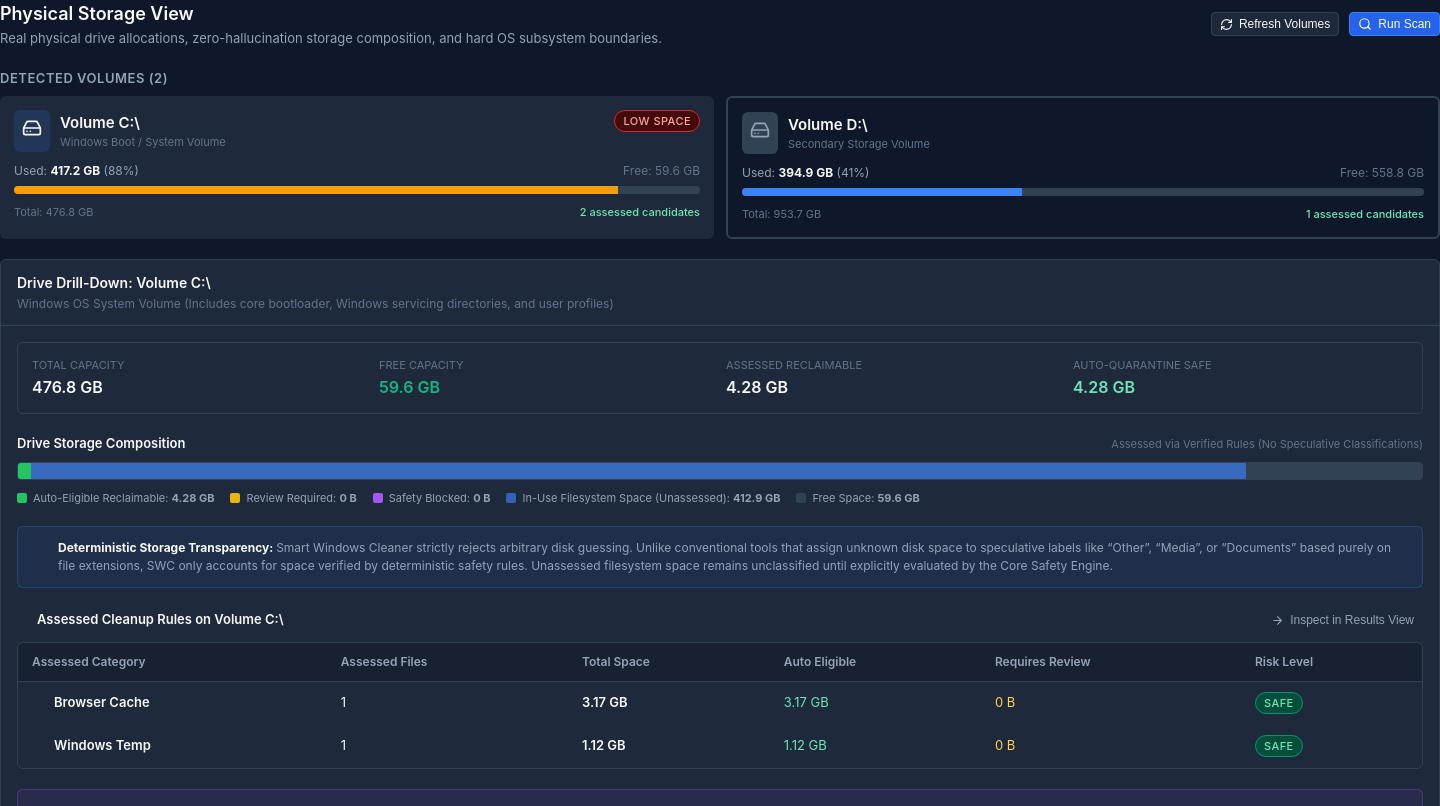
Test: M3.7: Physical Storage & Subsystem Intelligence View › aggregates real candidate metrics on selected drive
Expected: the text "Windows Temp" is shown, left=54, top=736, right=151, bottom=756
Expected: the text "Browser Cache" is shown, left=54, top=693, right=150, bottom=713
Drilldown to D:\
What coordinates should you click on to do the following:
click the button "Volume D:\\"
I would click on:
 (760, 133)
Its box is left=726, top=96, right=1439, bottom=238.
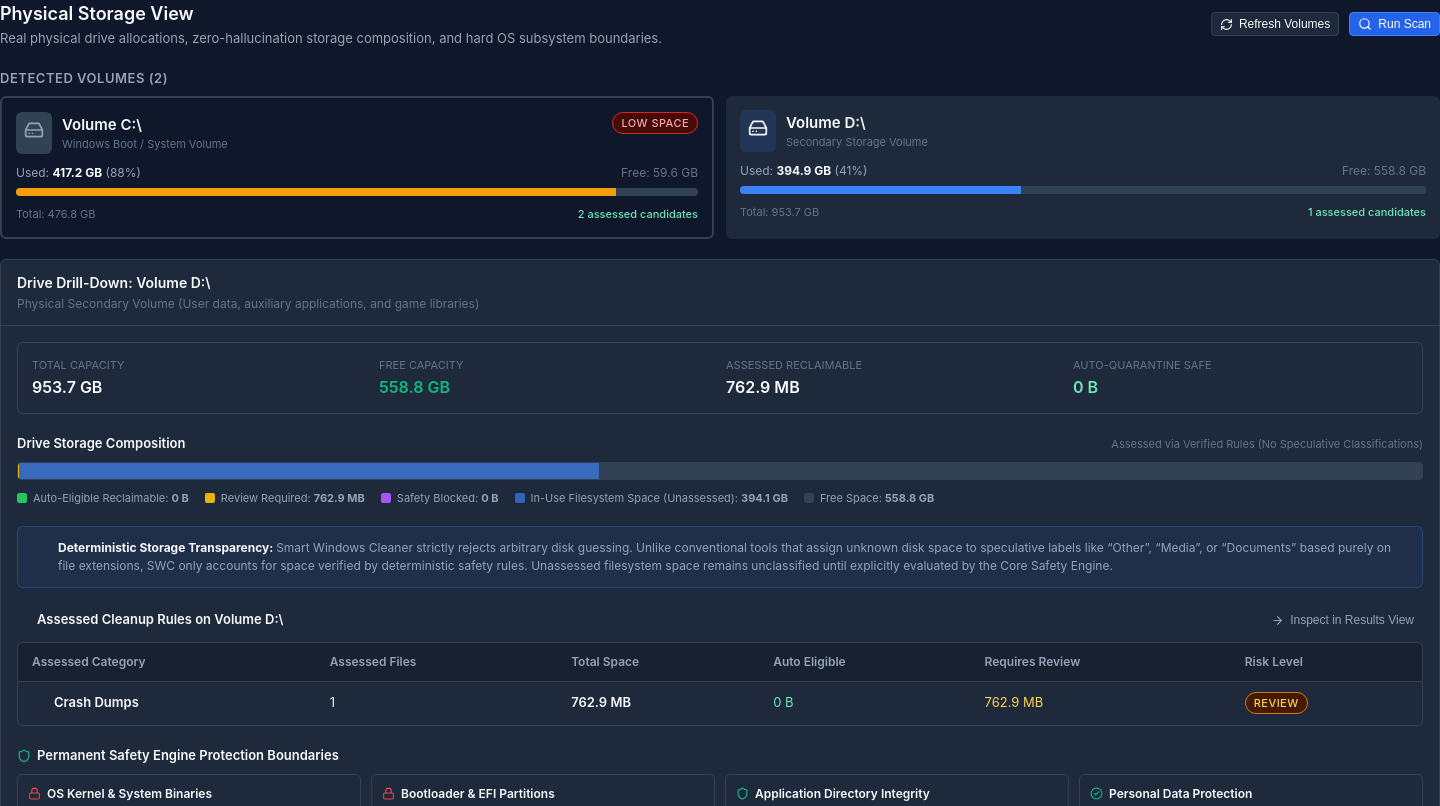
Expected: the text "Crash Dumps" is shown, left=54, top=693, right=139, bottom=713
Expected: the text "Windows Temp" is gone
